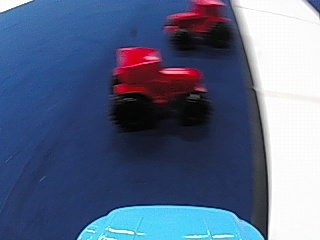tractor: (108, 41, 209, 132), (161, 1, 231, 50)
